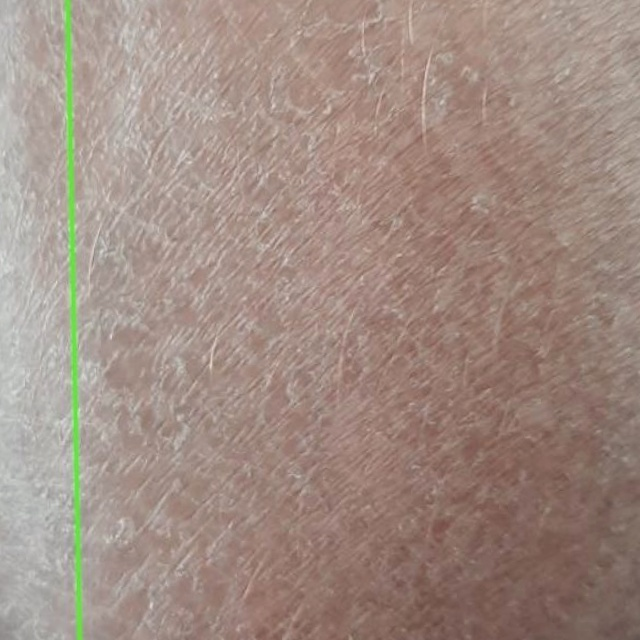Tinea Corporis: (0, 0, 79, 639)
